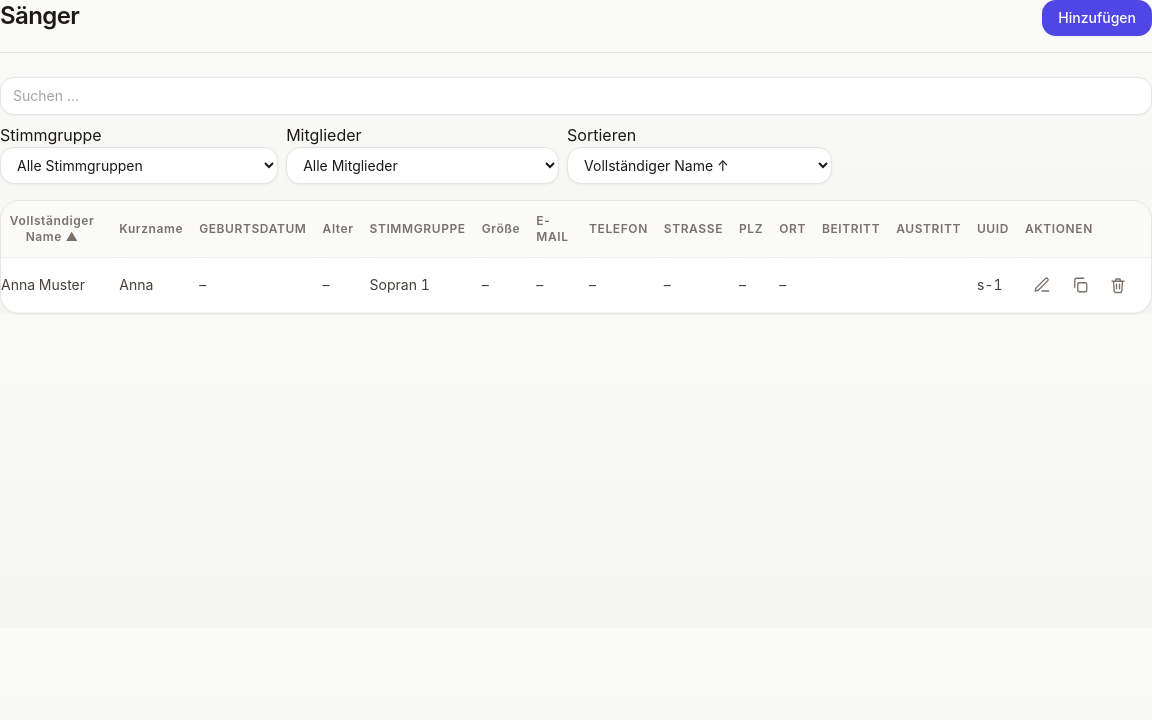
it: SingersPage mutations › blocks saving without a name
This screenshot has width=1152, height=720.
Check: the text "Anna Muster" is shown, box [1,258,119,312]
Click the button "Hinzufügen" at (1097,18), box [1042,0,1151,36]
(page scrolled)
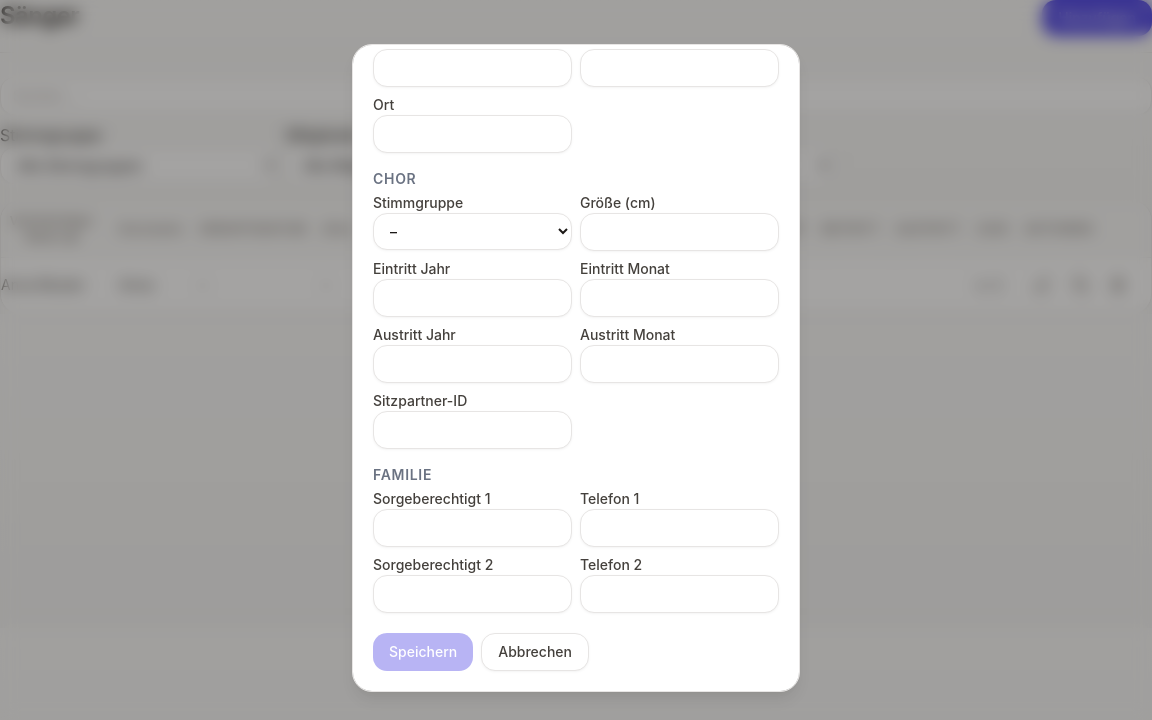
Check: the button "Speichern" is disabled, box [373,633,473,671]
